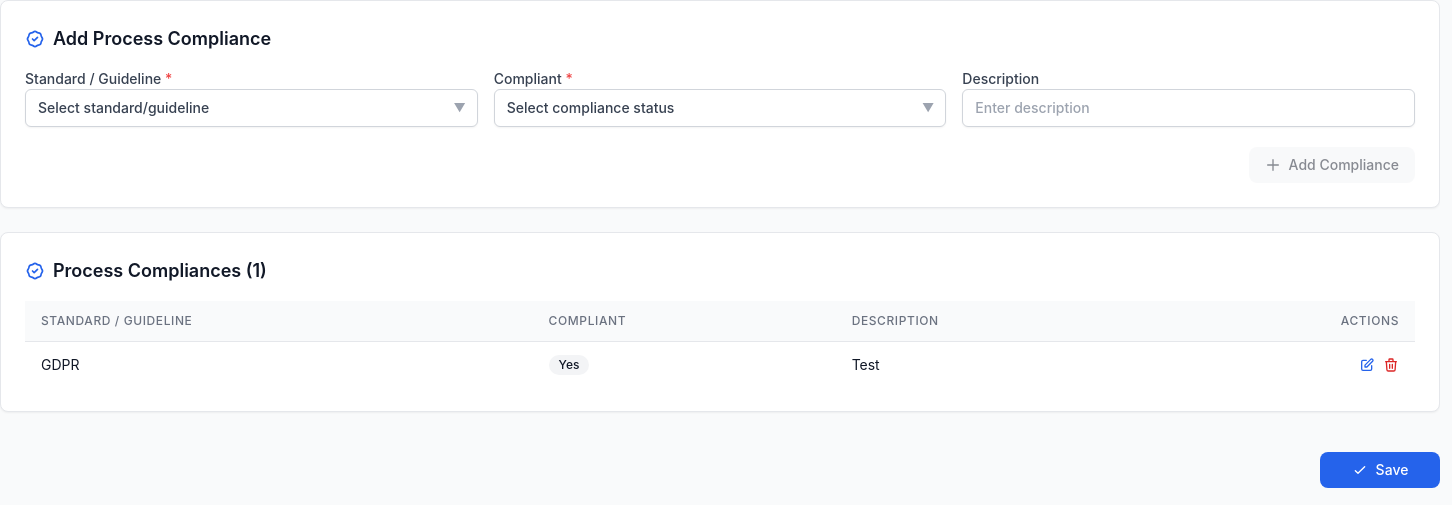
Test: ProcessComplianceStep › enters edit mode when edit button clicked
What coordinates should you click on to do the following:
click the button titled "Edit"
I would click on:
 (1367, 364)
Its box is x1=1359 y1=356 x2=1375 y2=372.
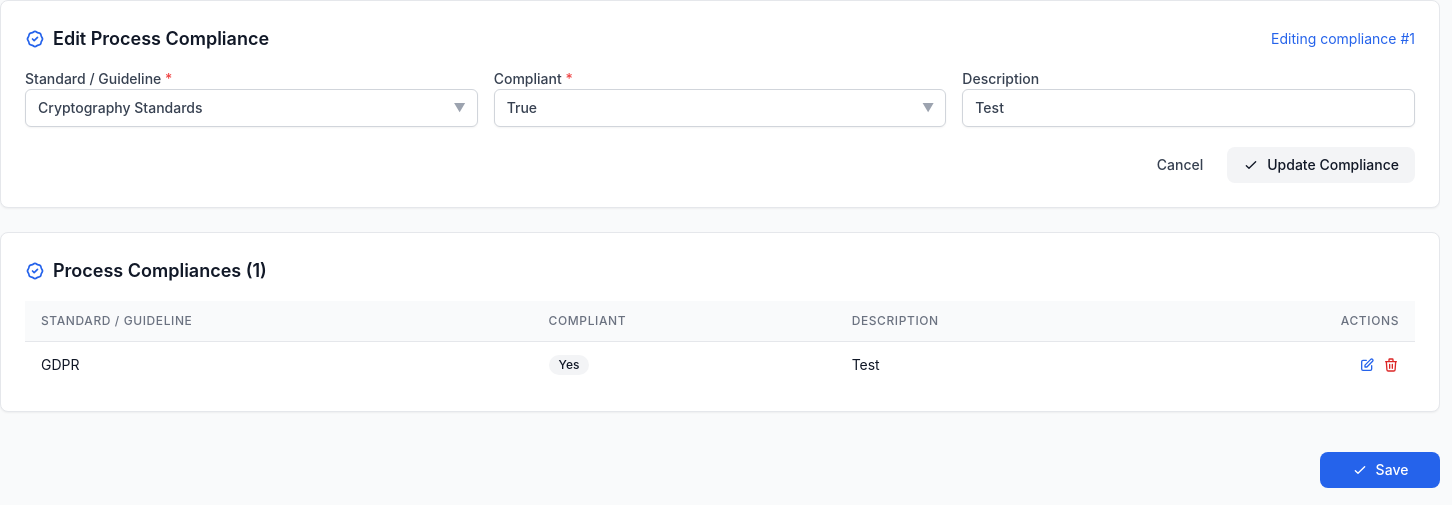
Expected: the button "Update Compliance" is shown, x1=1227 y1=147 x2=1415 y2=183
Expected: the button "Cancel" is shown, x1=1141 y1=147 x2=1219 y2=183
